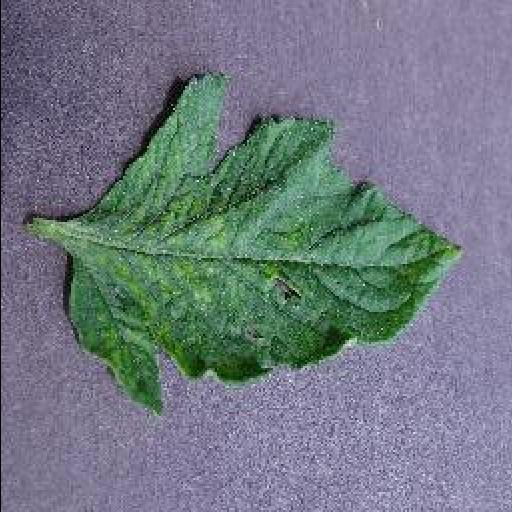disease_tomato: (66, 71, 462, 417)
